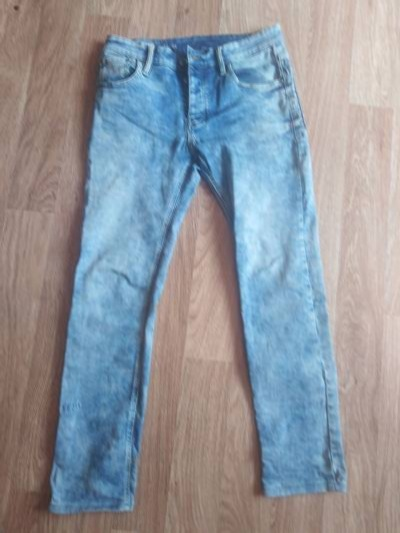Pants: (35, 24, 362, 515)
